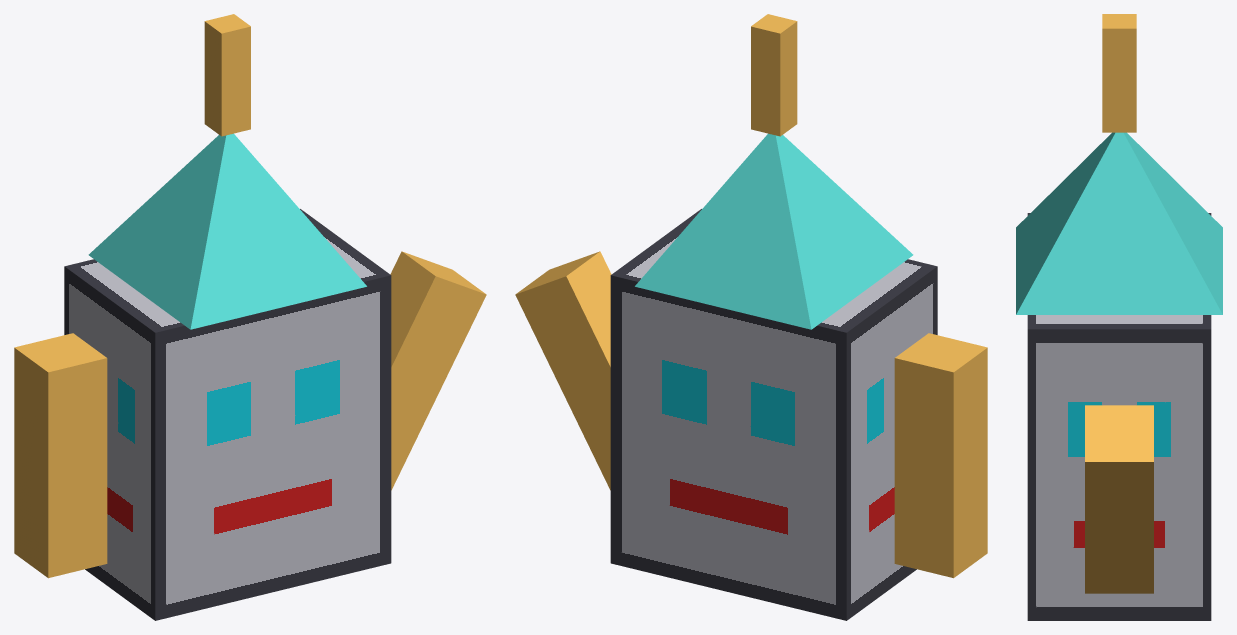
Rendered from smoke_robot.gltf.
3 views of the same model, side by side, from view 1: azimuth 30°, elevation 25°; view 2: azimuth 150°, elevation 25°; view 3: azimuth 270°, elevation 25° (orthographic).
Parts seen in each view (by area): view 1: Body, Head, Arm.L, Arm.R, Antenna; view 2: Body, Head, Arm.L, Arm.R, Antenna; view 3: Body, Head, Arm.R, Antenna.
Part boxes in pixels (box(x1,y1,x2,y2)): Body: box(64, 209, 391, 620); Head: box(88, 133, 366, 329); Arm.L: box(14, 333, 107, 578); Arm.R: box(390, 251, 486, 490); Antenna: box(204, 14, 250, 136); Body: box(610, 209, 937, 620); Head: box(635, 133, 913, 329); Arm.L: box(894, 333, 987, 578); Arm.R: box(515, 251, 611, 490); Antenna: box(751, 14, 797, 136); Body: box(1027, 213, 1211, 620); Head: box(1016, 132, 1222, 314); Arm.R: box(1085, 405, 1153, 593); Antenna: box(1102, 14, 1136, 132).
Bounding box in the file's own units: 2.23 × 2.6 × 0.9.
Materials: 3 (1 with a texture image).
